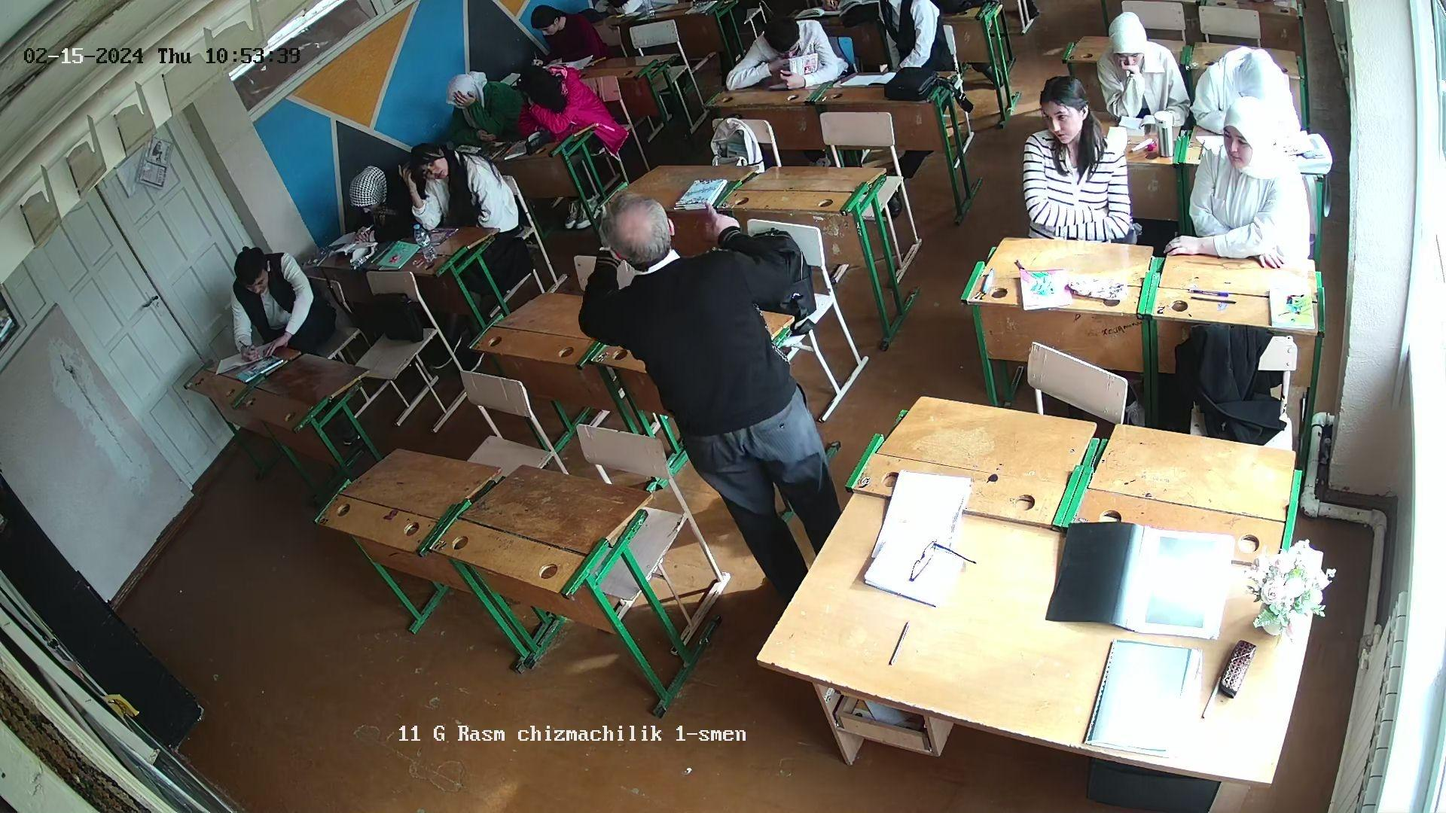Bend Over The Desk: (1210, 38, 1326, 122)
Look Around: (1199, 110, 1326, 274)
Normal: (1024, 81, 1137, 233), (205, 248, 309, 361), (1080, 23, 1182, 134), (734, 20, 831, 97), (324, 155, 396, 247), (522, 0, 606, 66)
Stand Up: (577, 199, 851, 596)
Wave: (402, 167, 438, 236), (465, 95, 499, 139)
